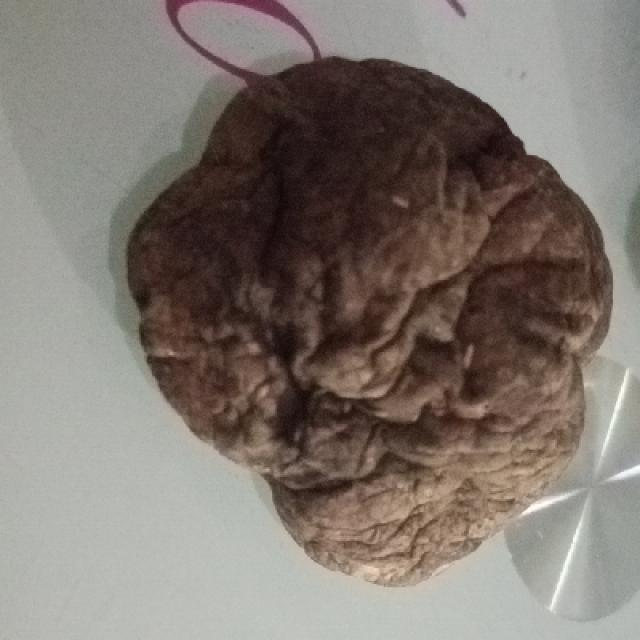Lentinus edodes: (136, 58, 612, 587)
